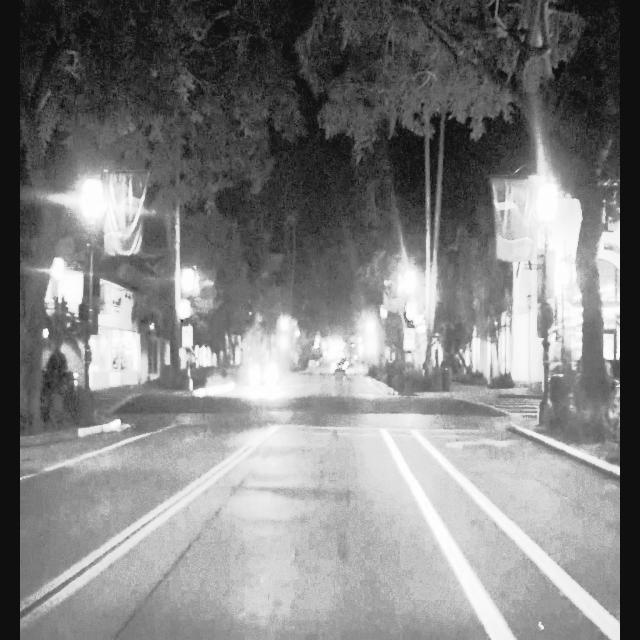Tree: (563, 10, 617, 442), (20, 4, 66, 440)
